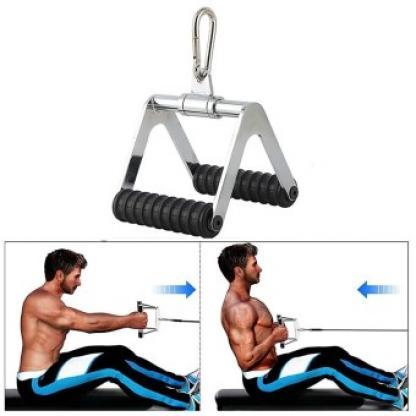Seated Cable Rows: (6, 233, 205, 416)
